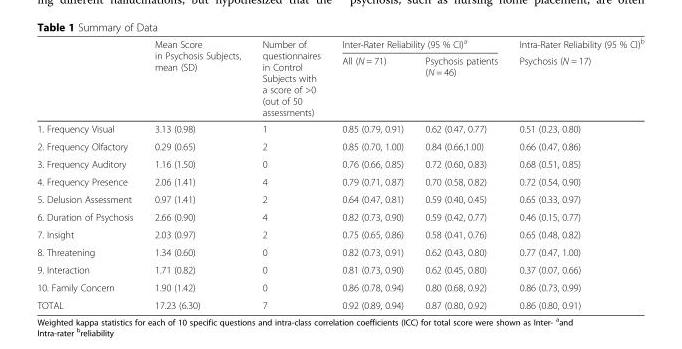table: (36, 36, 643, 310)
table column: (507, 36, 643, 310), (36, 36, 143, 310), (143, 36, 250, 310), (413, 36, 507, 310), (330, 36, 413, 310), (250, 36, 330, 310)
table column header: (36, 36, 643, 120)
table row: (36, 52, 643, 120), (36, 154, 643, 172), (36, 172, 643, 190), (36, 207, 643, 225), (36, 225, 643, 243), (36, 260, 643, 278), (36, 120, 643, 137), (36, 137, 643, 154), (36, 190, 643, 207), (36, 243, 643, 260), (36, 278, 643, 295), (36, 36, 643, 52), (36, 295, 643, 310)
table spanning cell: (507, 36, 643, 120), (143, 36, 250, 120), (250, 36, 330, 120), (330, 36, 507, 52)
